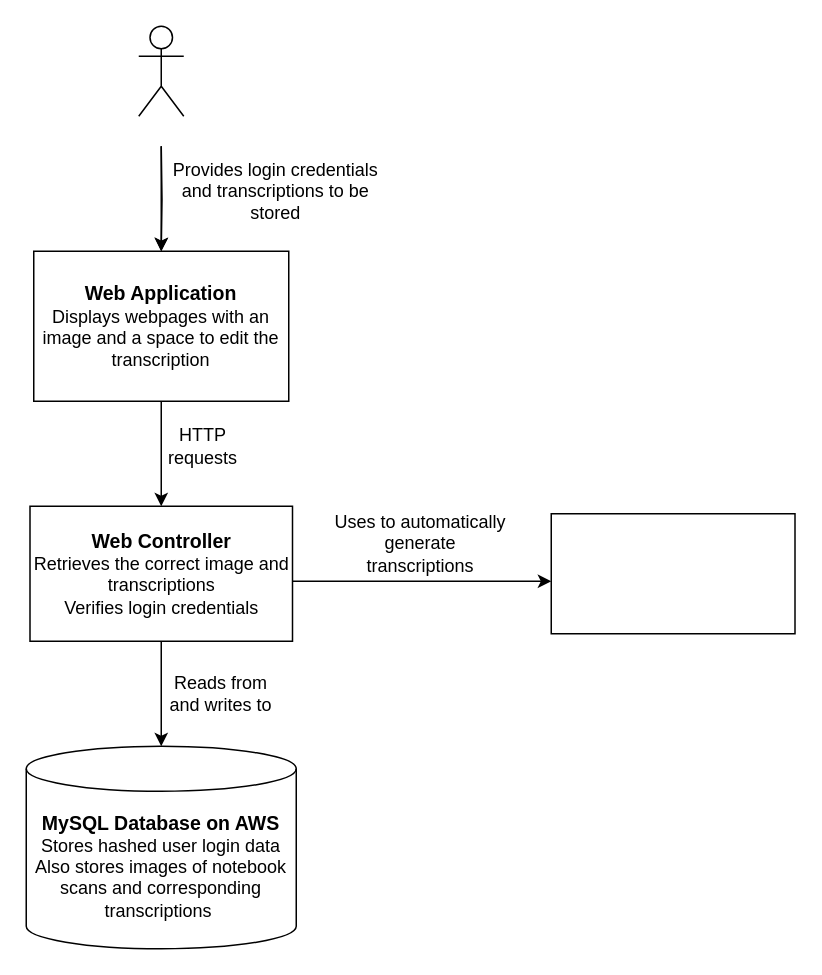
This 822x975 diagram has some shape labels left out. The centre of each missing label's shape, as x and y in pixels:
"Tesseract Java API Generates a transcription of the given notebook page" belongs at (672,573).
"User" belongs at (160,70).
